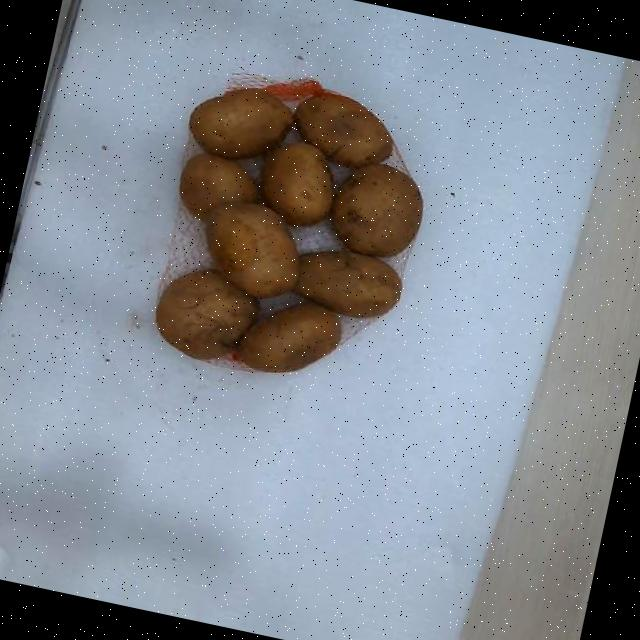potato: (155, 270, 257, 359), (206, 202, 298, 298), (330, 164, 422, 257), (188, 88, 292, 159), (236, 302, 340, 373), (293, 93, 392, 167), (293, 251, 400, 318), (261, 142, 332, 226), (179, 153, 256, 221)
